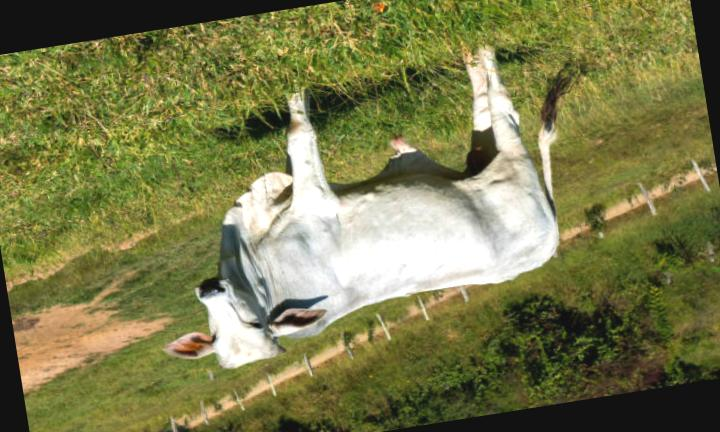Brahman: (166, 49, 568, 368)
